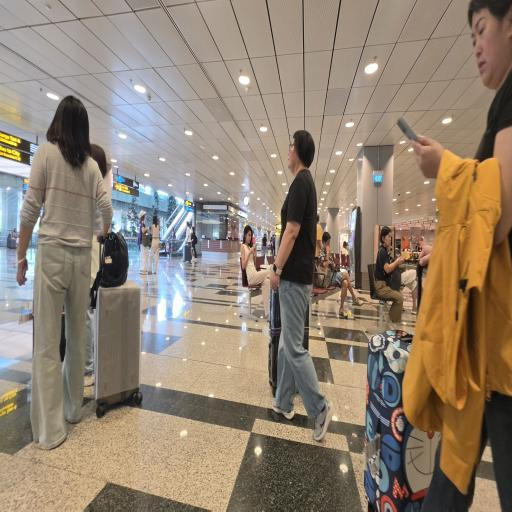person_left: (191, 222, 197, 262)
person_with_luggage_left: (343, 0, 512, 512), (256, 116, 332, 438), (182, 222, 193, 265)
